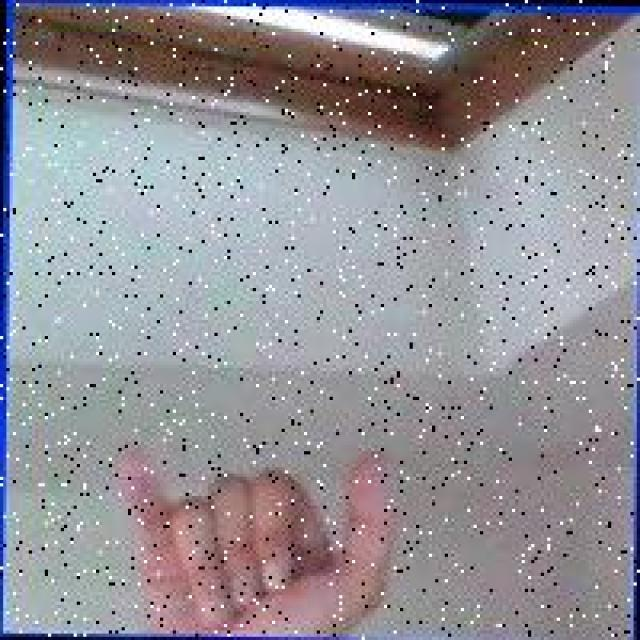Y: (107, 430, 402, 632)
